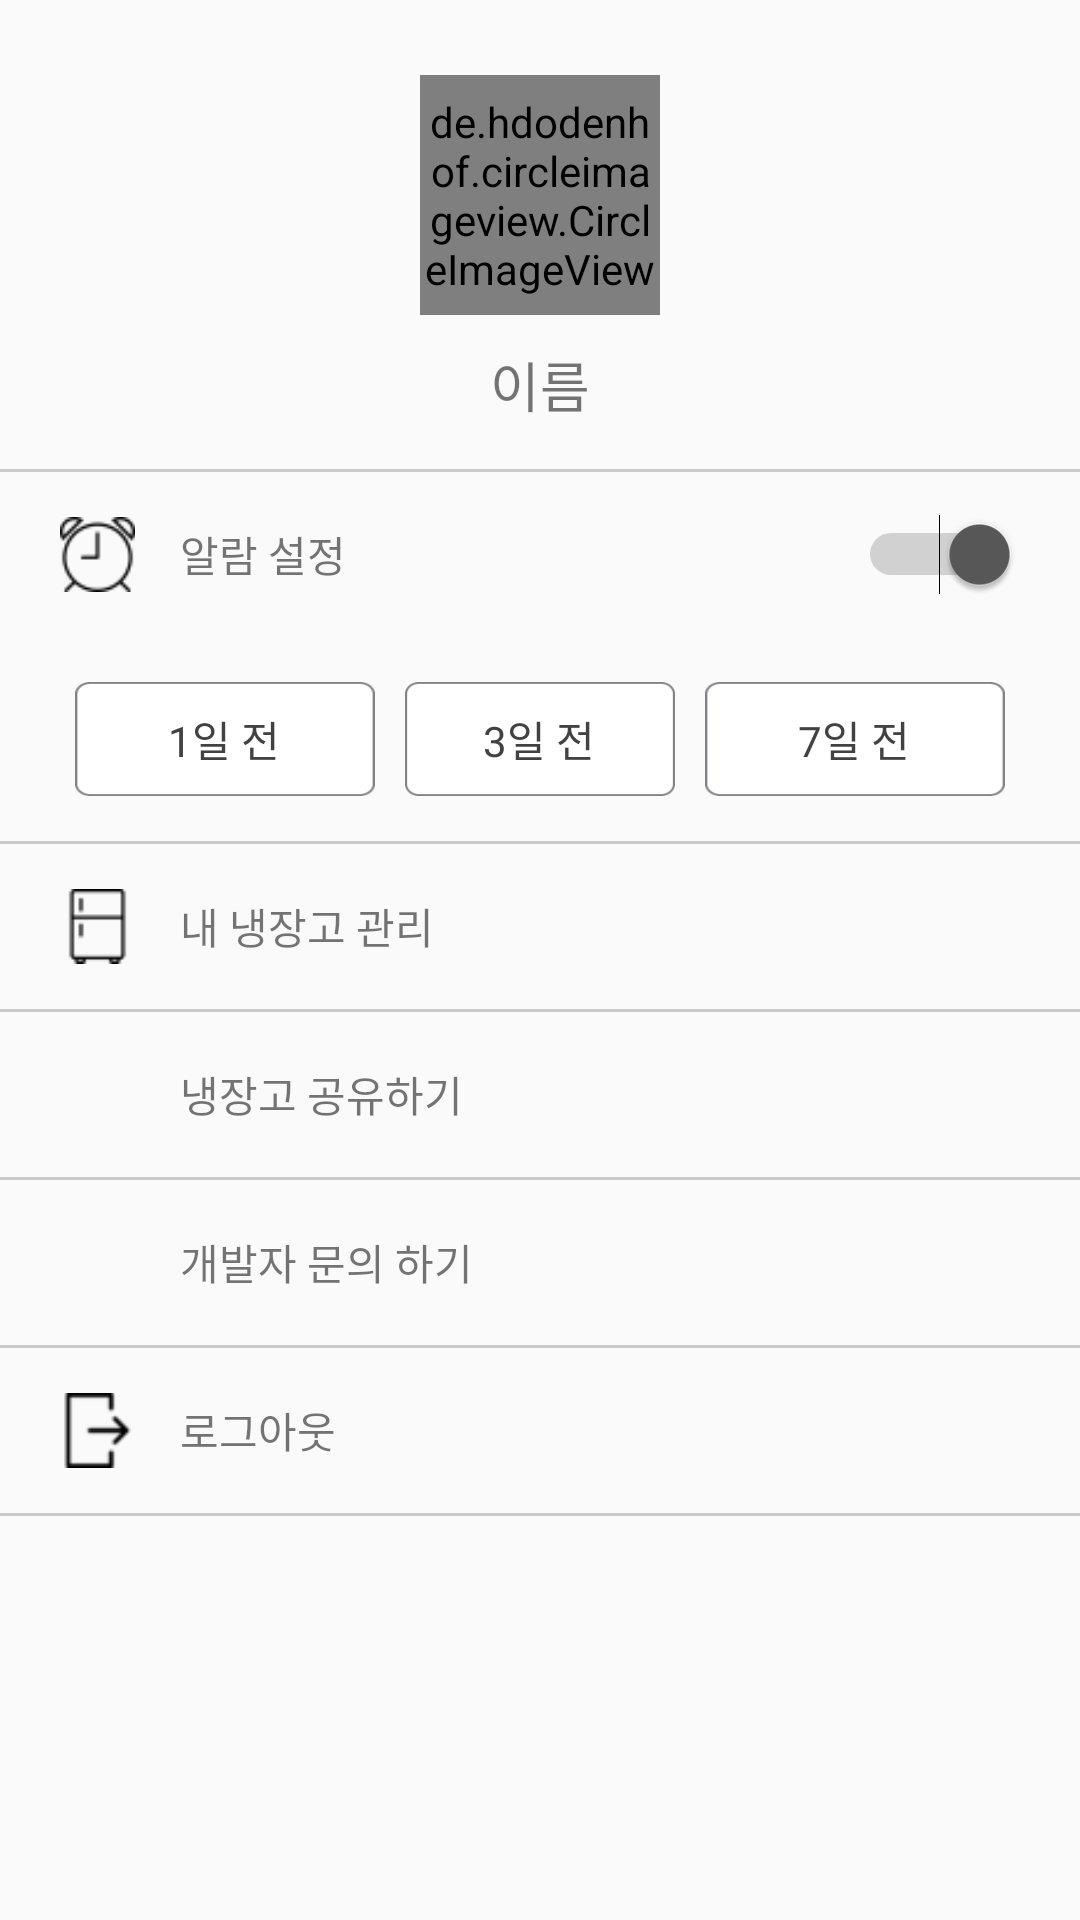

Named icons in this screenshot (1080×1920) and their bounding boxes, (x1, y1, x2, y2):
clock: (60, 517, 135, 592)
fridgemain: (69, 889, 126, 964)
